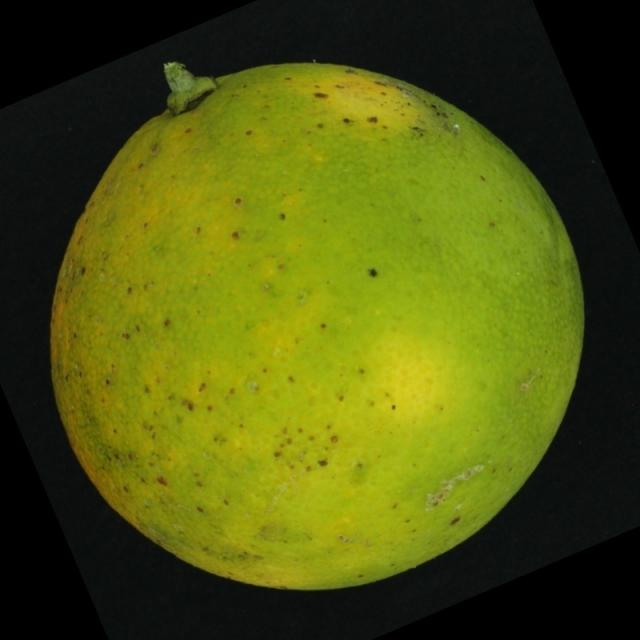grenning: (36, 50, 596, 607)
